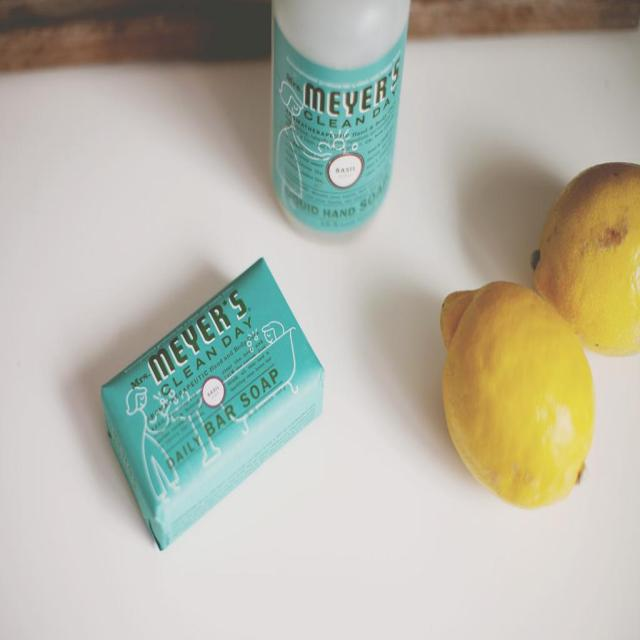Lemon: (443, 280, 595, 510), (528, 158, 640, 362)
